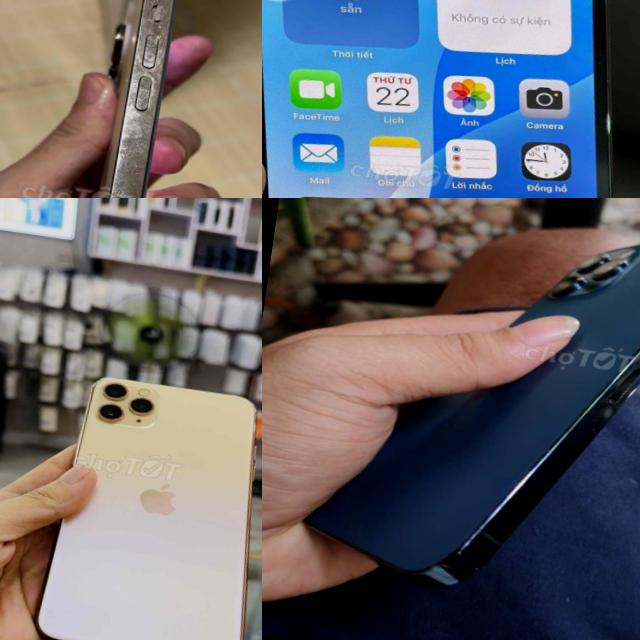scratch: (125, 0, 179, 121), (112, 133, 149, 198)
